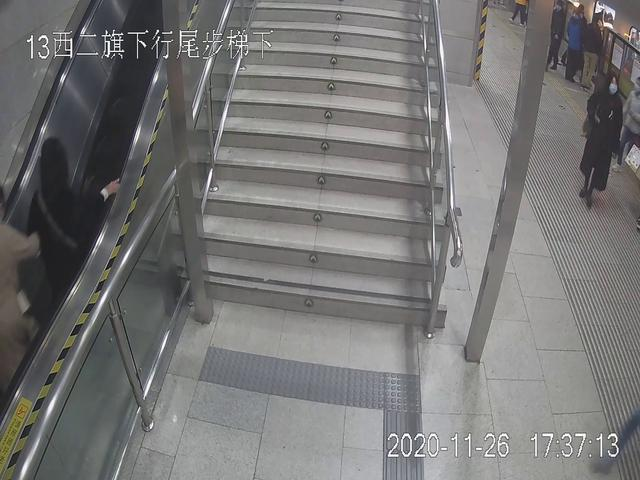person: (19, 137, 114, 333), (578, 68, 628, 211), (563, 6, 583, 84), (585, 3, 603, 89)
